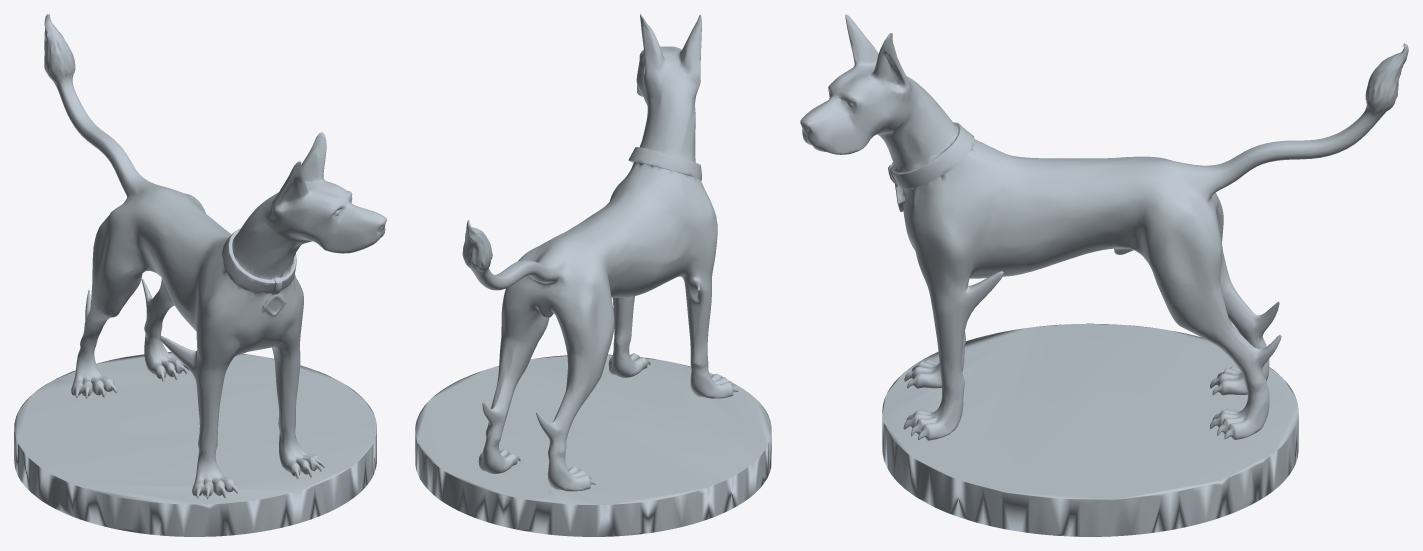
File: blink-dog.glb
3 views of the same model, side by side, from view 1: azimuth 30°, elevation 25°; view 2: azimuth 150°, elevation 25°; view 3: azimuth 270°, elevation 25° (orthographic). The views are drawn at different scales.
Visible parts, largest first — view 1: Blink_Dog.001; view 2: Blink_Dog.001; view 3: Blink_Dog.001.
Boxes of the visible parts, x1,y1,x2,y2 form: Blink_Dog.001: (14, 14, 386, 536); Blink_Dog.001: (415, 14, 771, 536); Blink_Dog.001: (800, 14, 1408, 536).
Size of the model in its own units: 25.25 by 29.3 by 36.89.
Materials: 1 (1 with a texture image).
